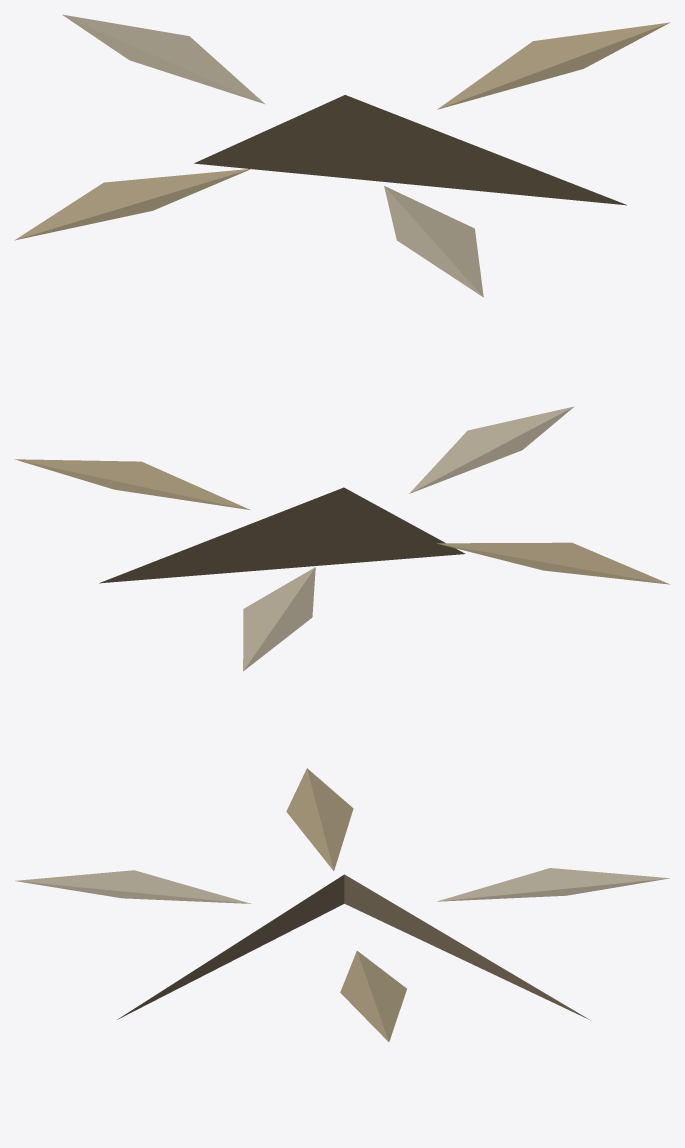
Rendered from shui.pucao@withered__spring.glb.
3 renders of one model, top to bottom at view 1: azimuth 30°, elevation 25°; view 2: azimuth 150°, elevation 25°; view 3: azimuth 270°, elevation 25°, orthographic. The views are drawn at different scales.
Parts seen in each view (by area): view 1: shui.pucao@withered__spring; view 2: shui.pucao@withered__spring; view 3: shui.pucao@withered__spring.
Boxes of the visible parts, bbox=[...] form: shui.pucao@withered__spring: bbox=[14, 14, 670, 297]; shui.pucao@withered__spring: bbox=[15, 406, 670, 671]; shui.pucao@withered__spring: bbox=[15, 768, 669, 1041].
Bounding box in the file's own units: 0.3459 × 0.084 × 0.3408.
